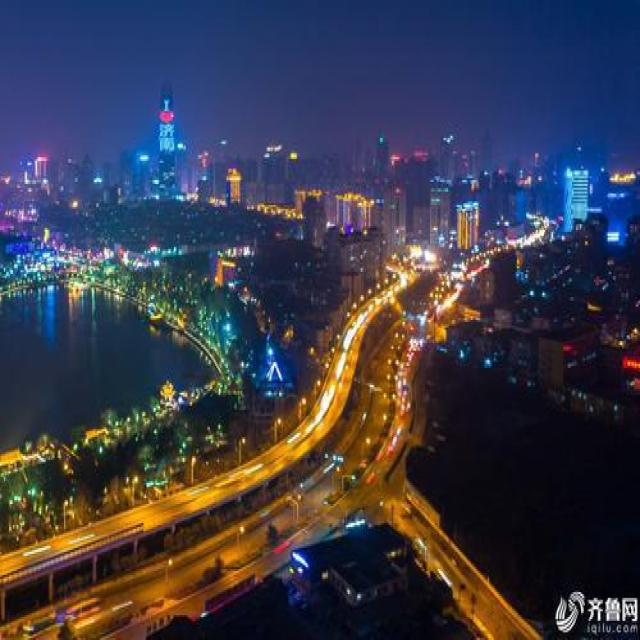other: (341, 293, 365, 388), (384, 249, 439, 287), (401, 320, 414, 428), (612, 342, 637, 382)
